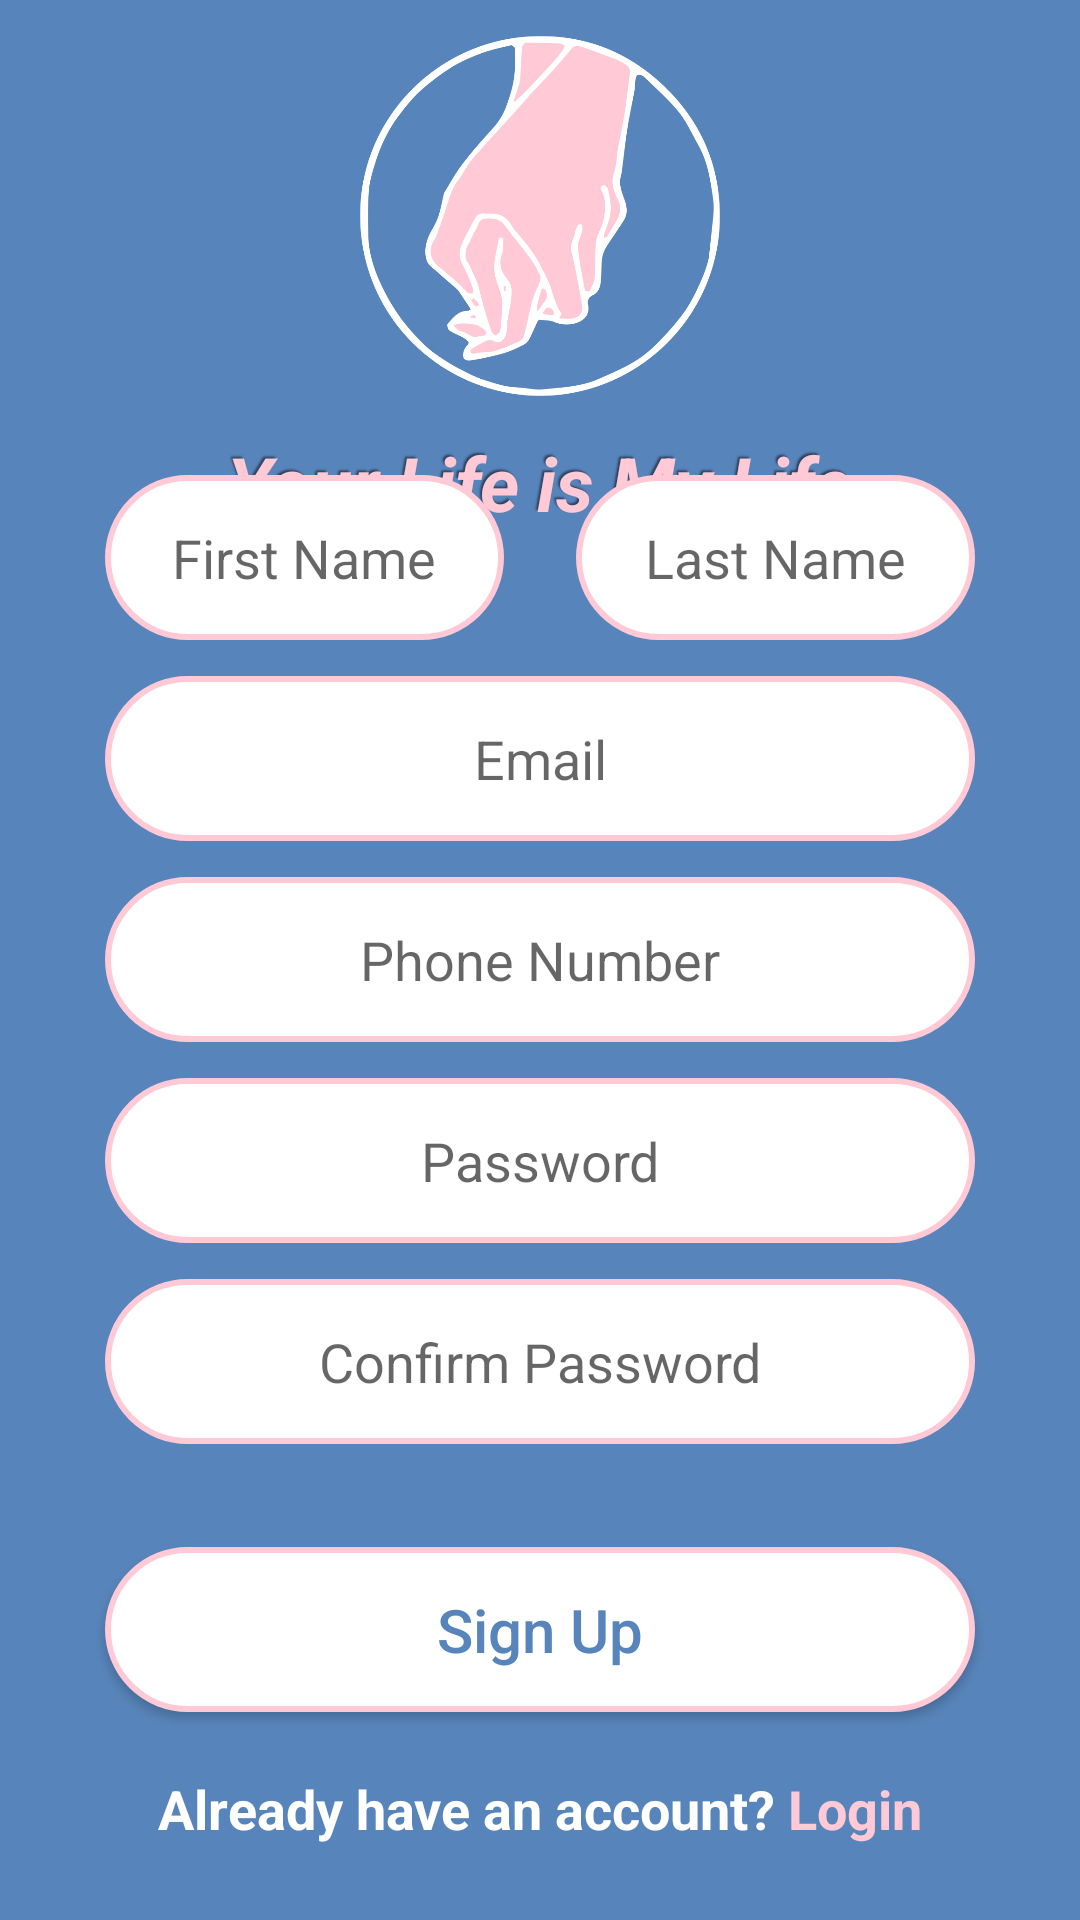

Screen size 1080x1920. Icon name, then its center in pixels as (x,y):
hands tran: (540,216)
